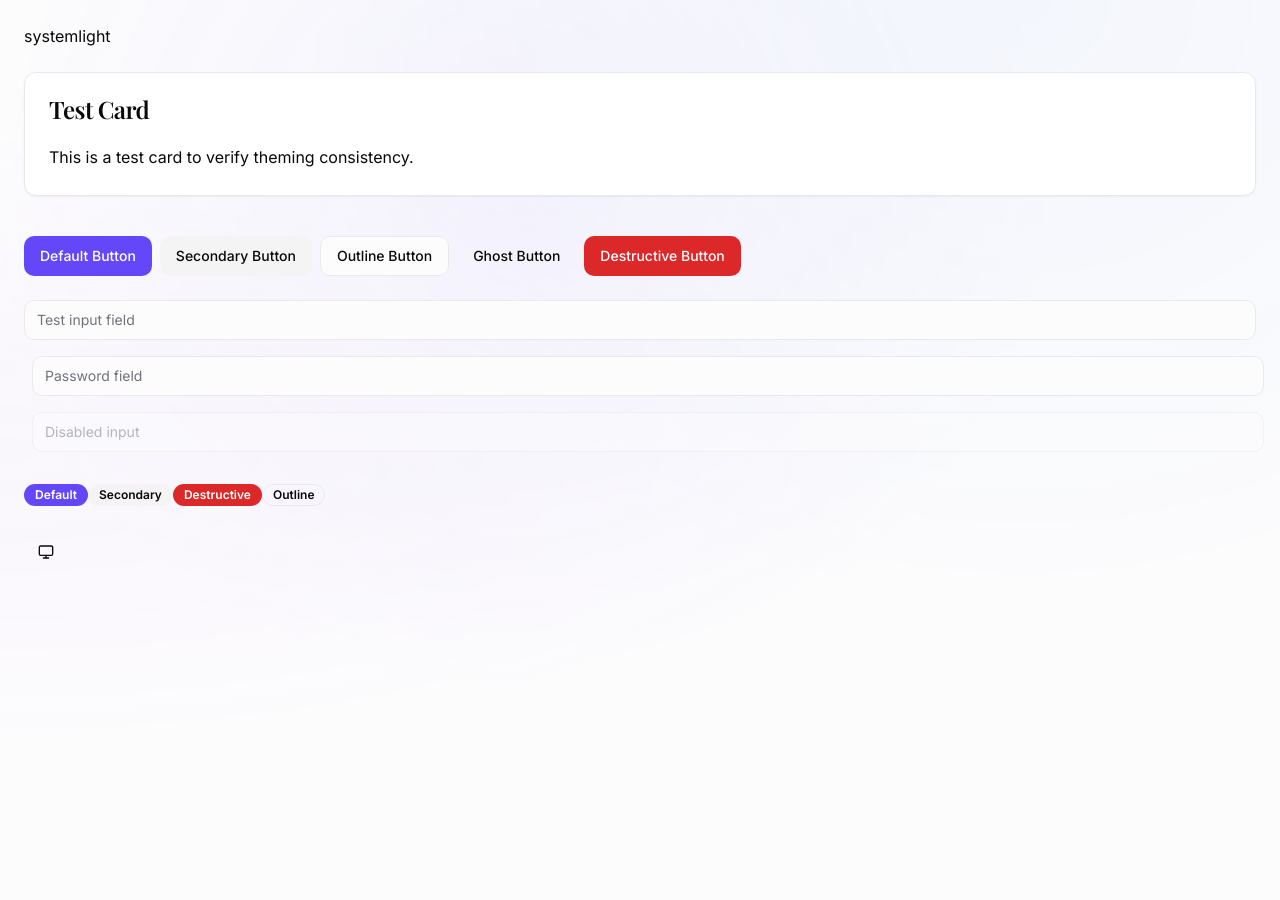
Test: Theme Visual Regression Tests › Theme Application Consistency › applies dark theme classes consistently
Note: Switch to dark theme
Click the button named "theme selector".
click(46, 552)  # box [24,530,68,574]
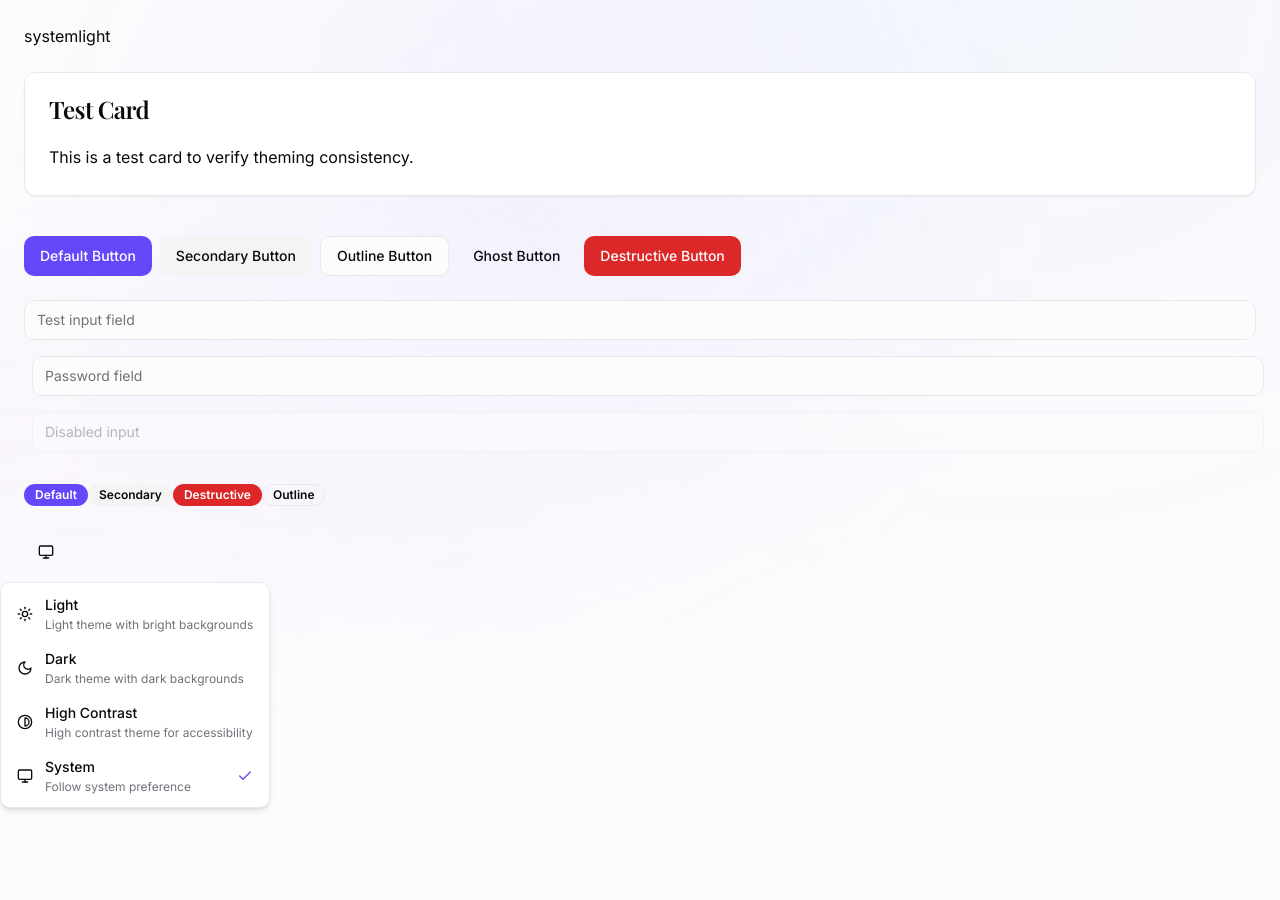
Click the menu item "Dark Dark theme with dark backgrounds".
click(135, 668)  # box [5,641,265,695]
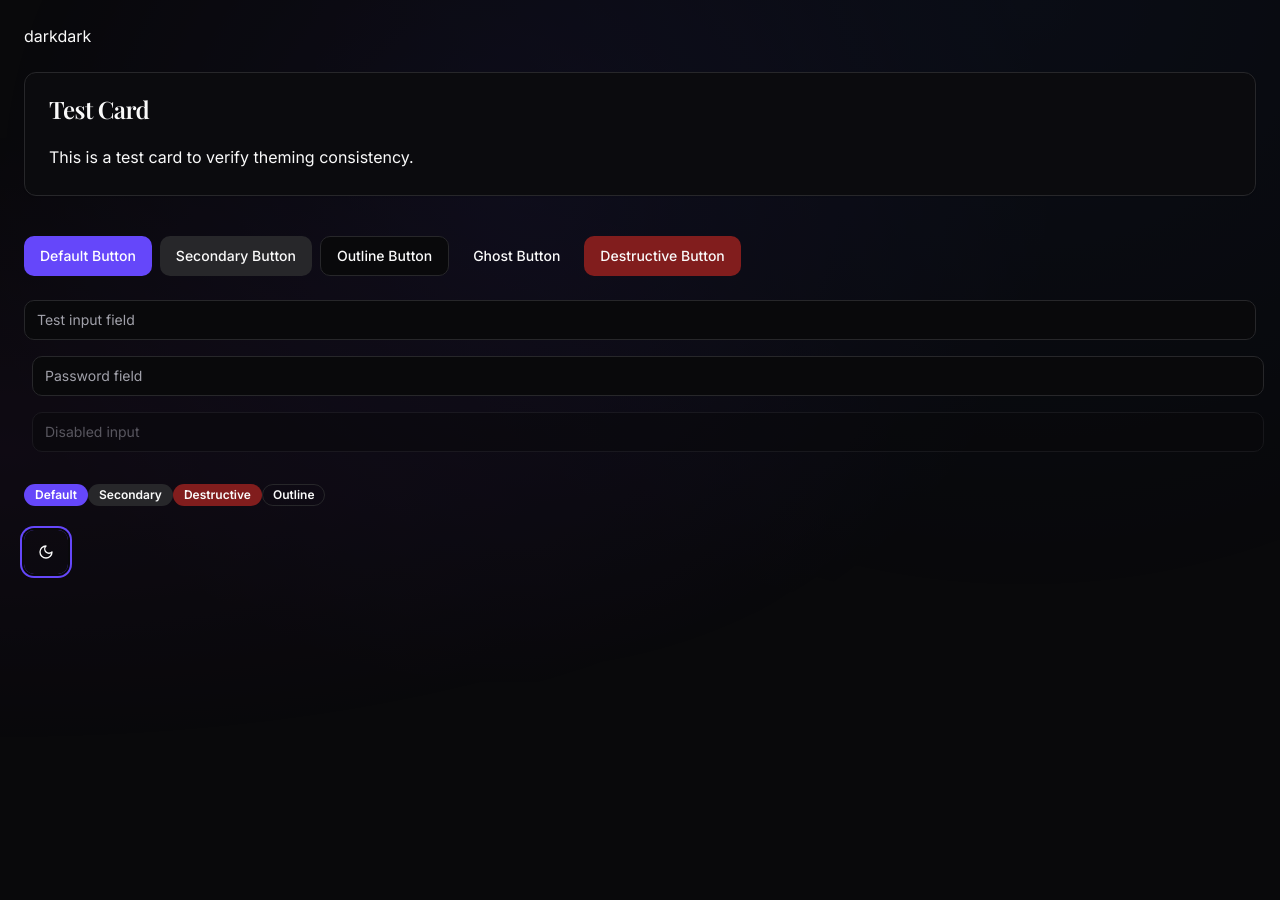
expect the text with test id "current-theme" reads "dark": met, box [24,26,58,46]
expect the text with test id "resolved-theme" reads "dark": met, box [58,26,91,46]
